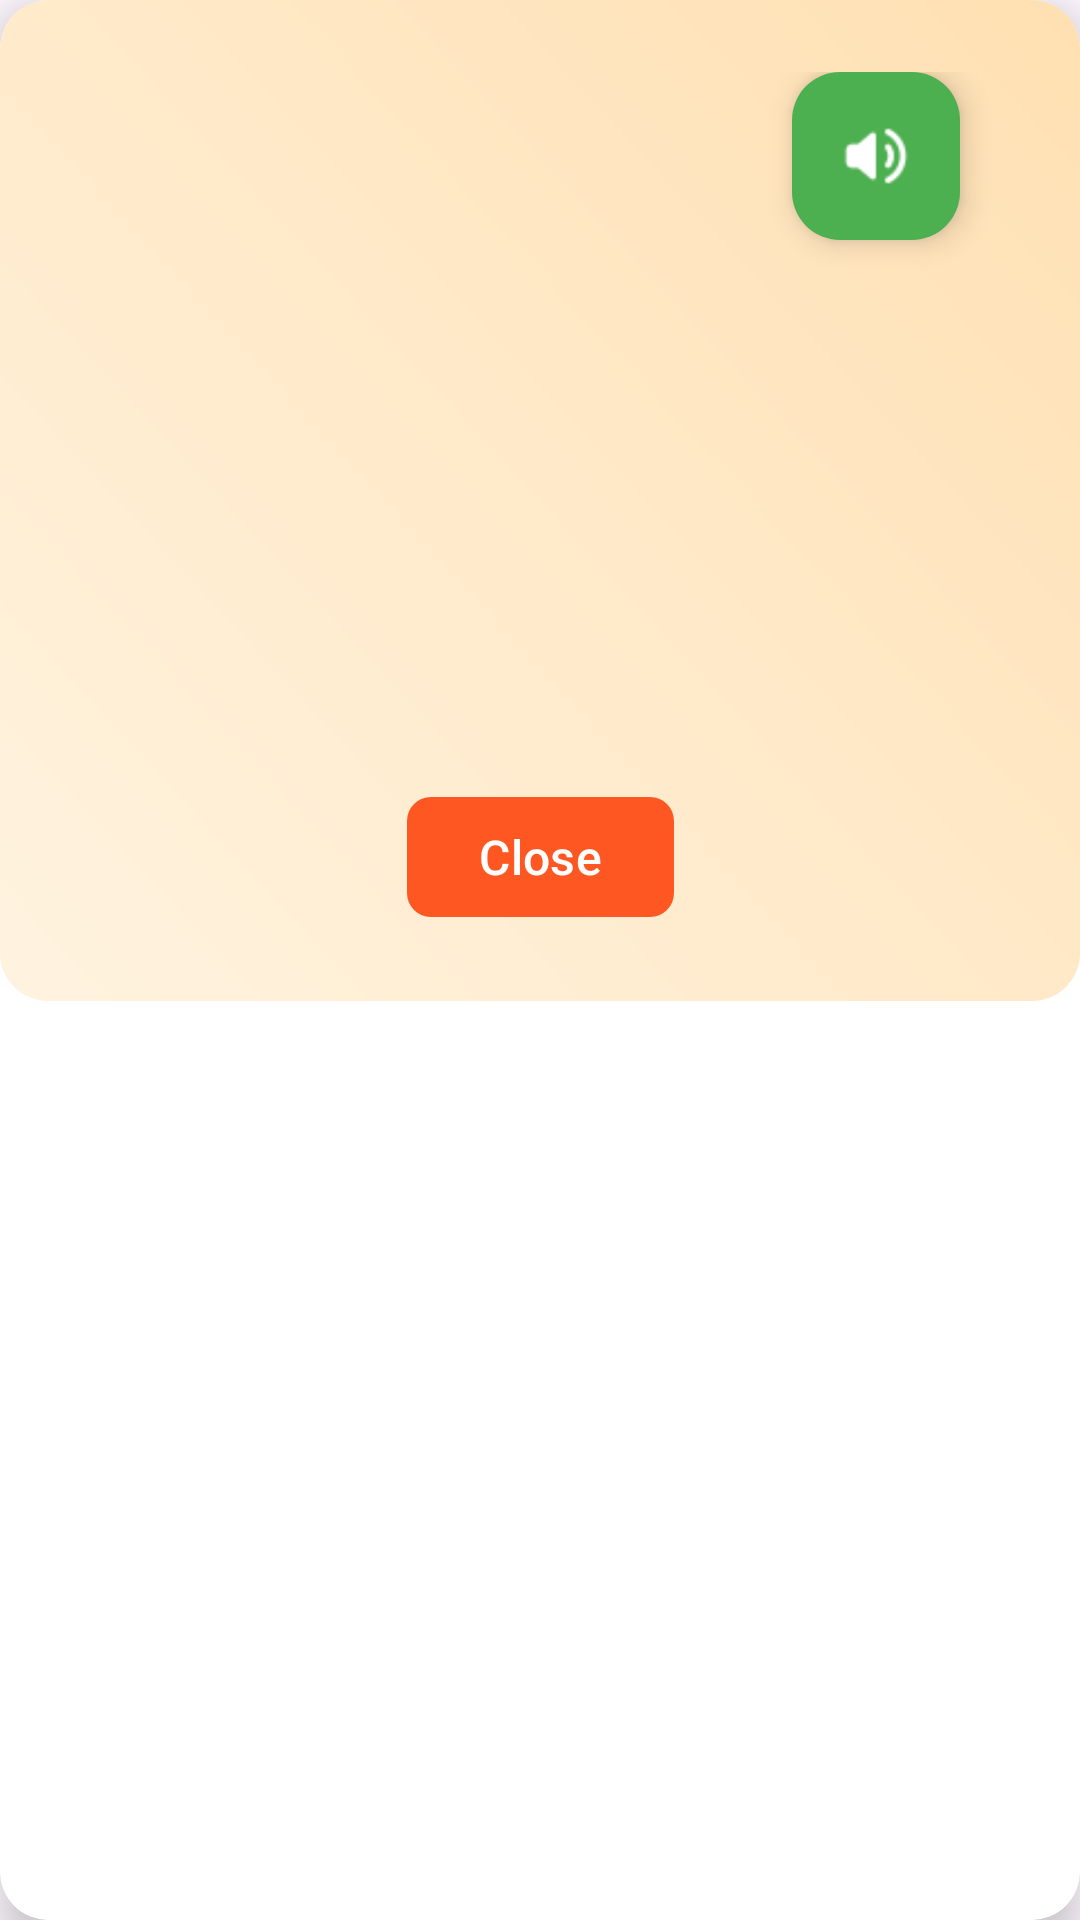

Icons on this 1080×1920 Android screen, each with its box as (x1, y1, x2, y2):
Replay Sound: (792, 72, 960, 240)
